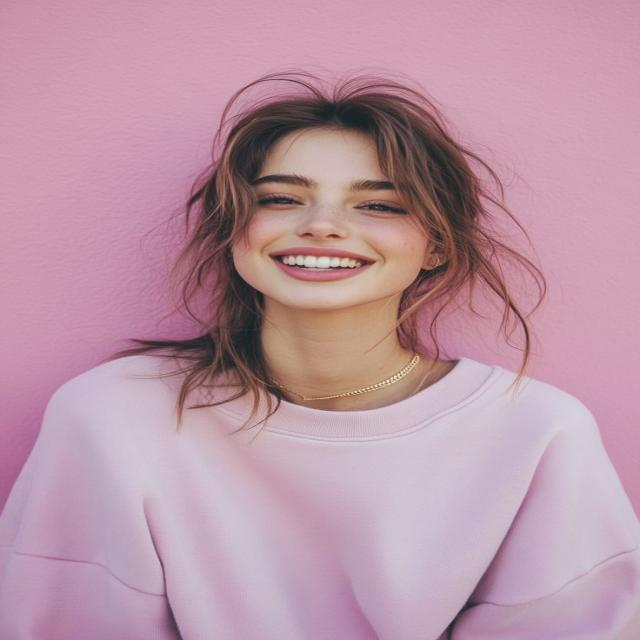sem_oculos: (202, 164, 438, 229)
